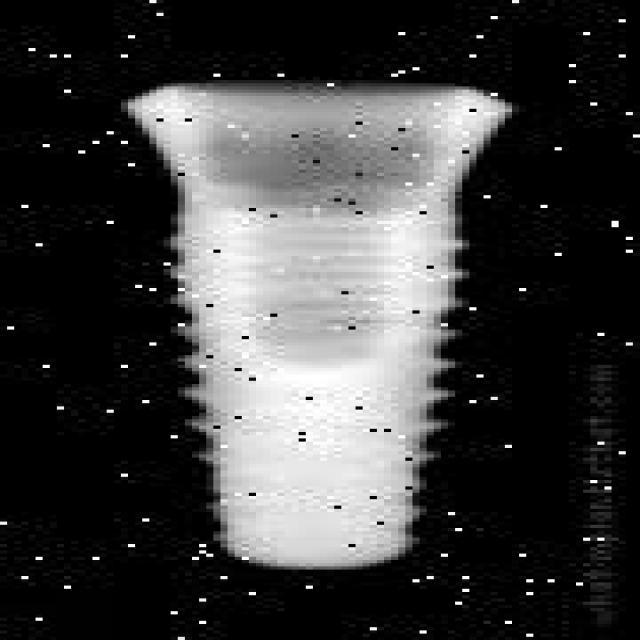Titan Implant Implant: (121, 83, 512, 573)
